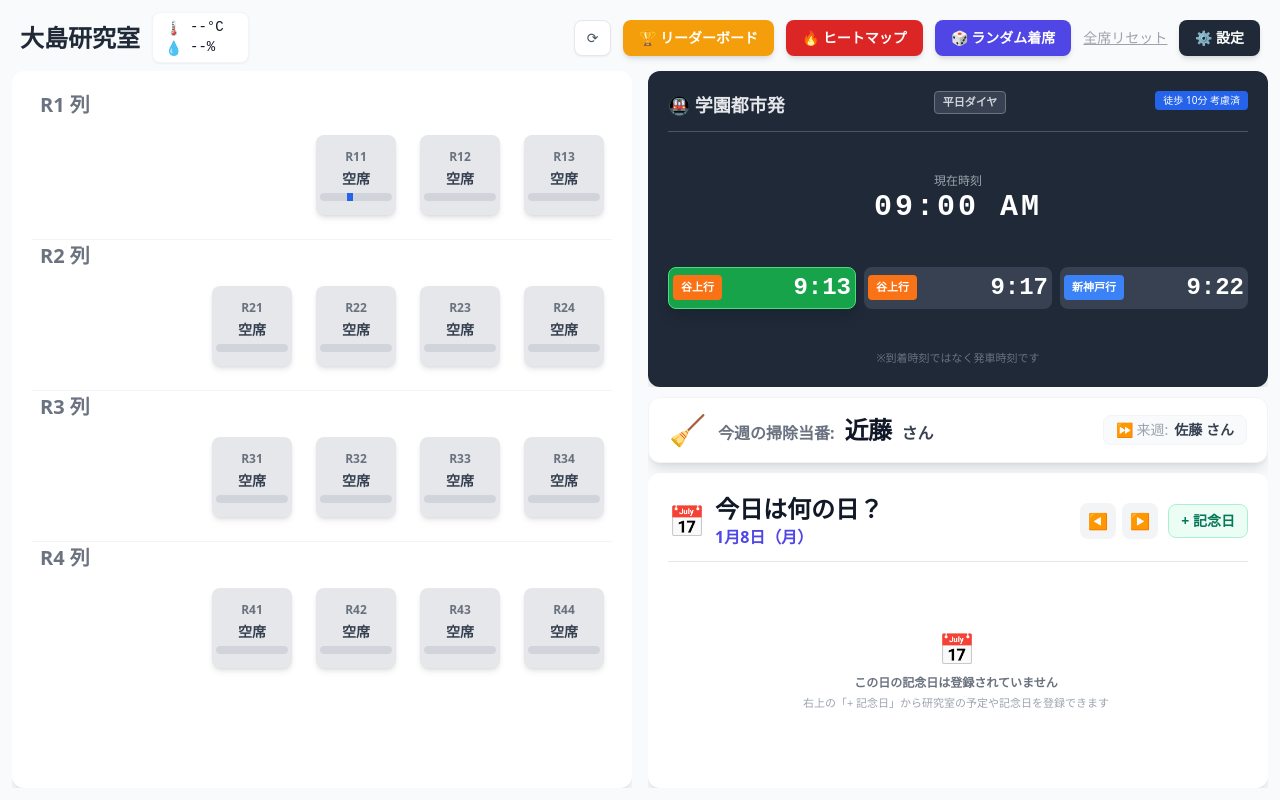
Test case: admin history management › removes a session via admin and clears leaderboard total
Click the button "🏆 リーダーボード" at [699, 38], box [623,20,774,56]
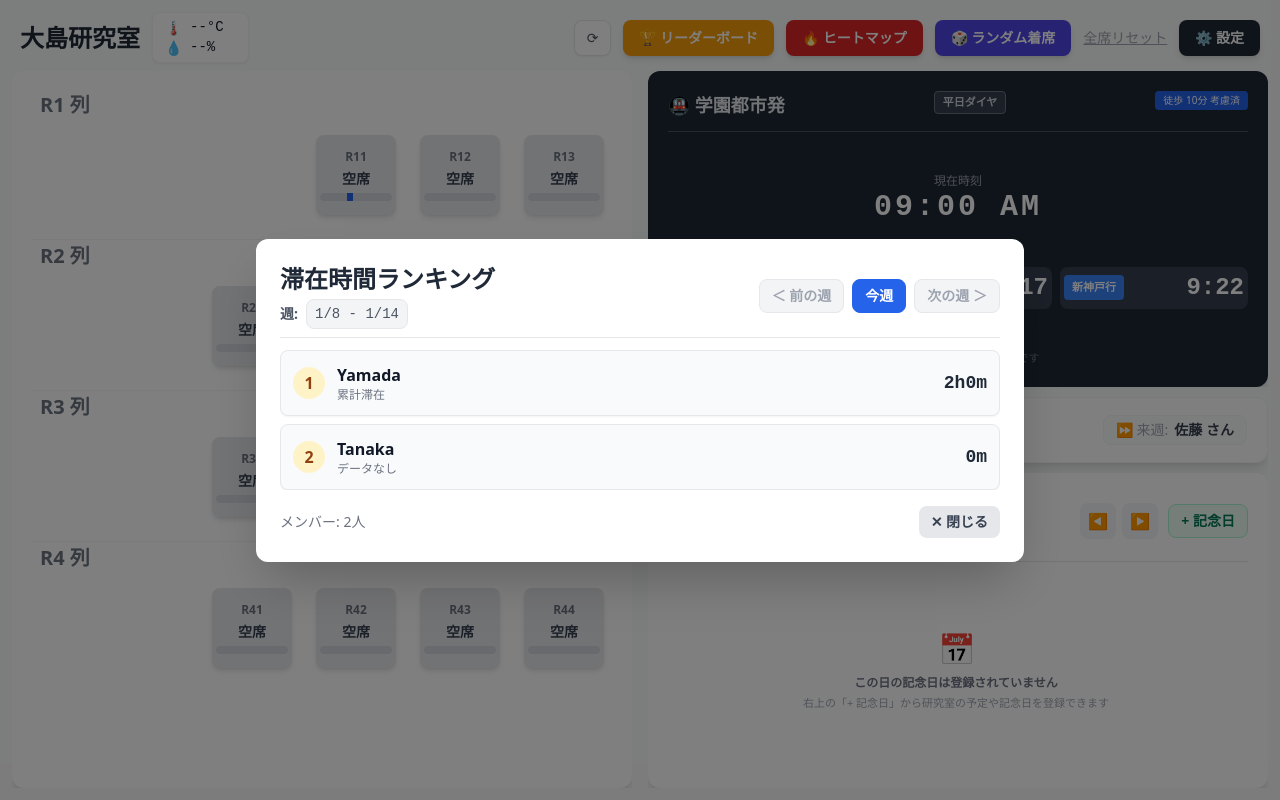
Now the list item "1 Yamada 累計滞在 2h0m" is shown, box [280,350,1000,416]
Click the button "✕ 閉じる" at [959, 522], box [919,506,1000,538]
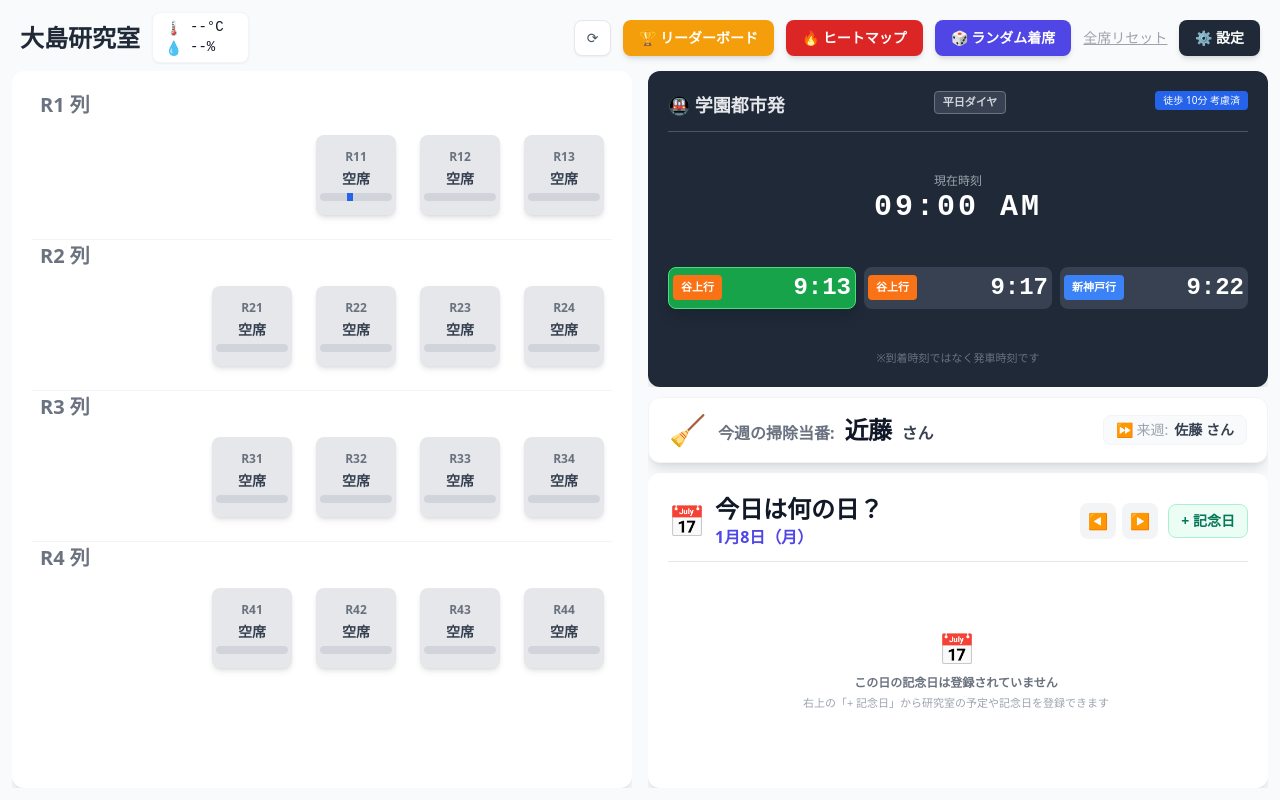
Click the button "⚙ 設定" at [1220, 38], box [1179,20,1260,56]
(page scrolled)
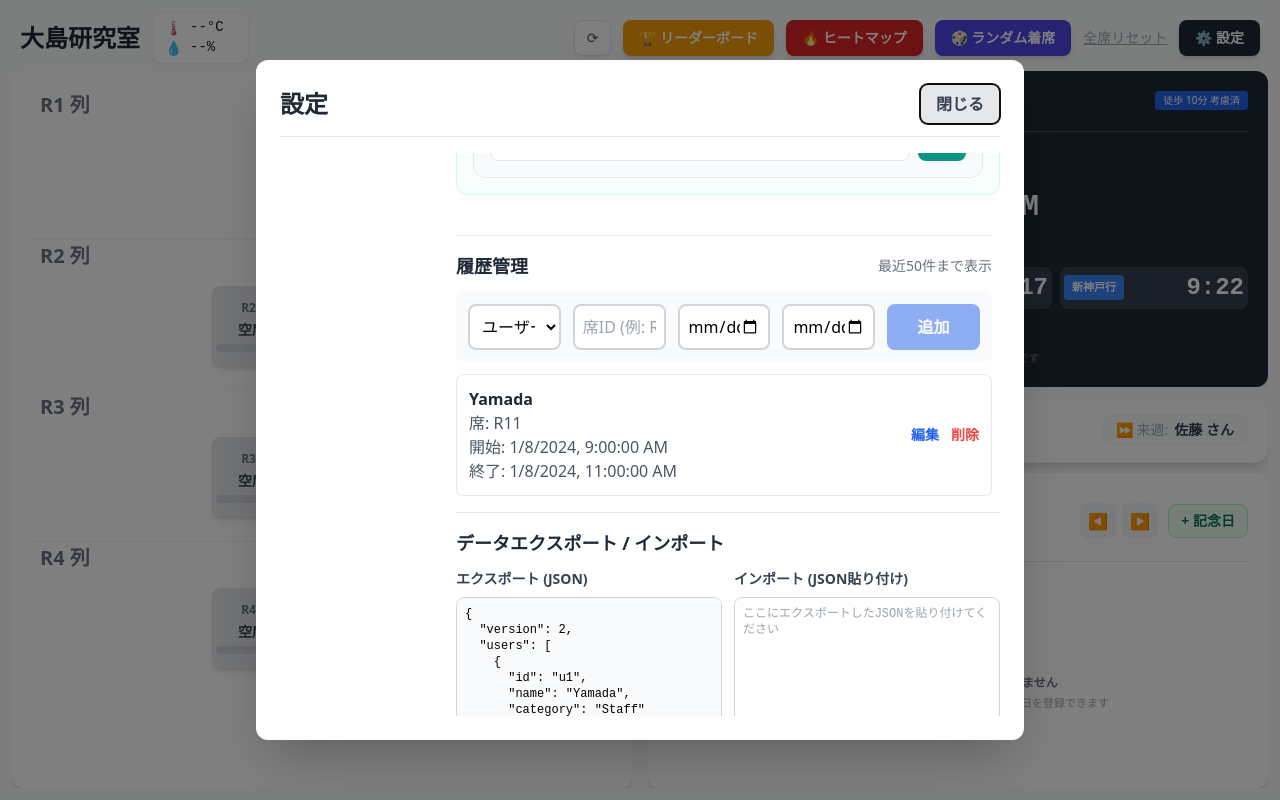
Click the button "削除" at [965, 434], box [951,424,979,444]
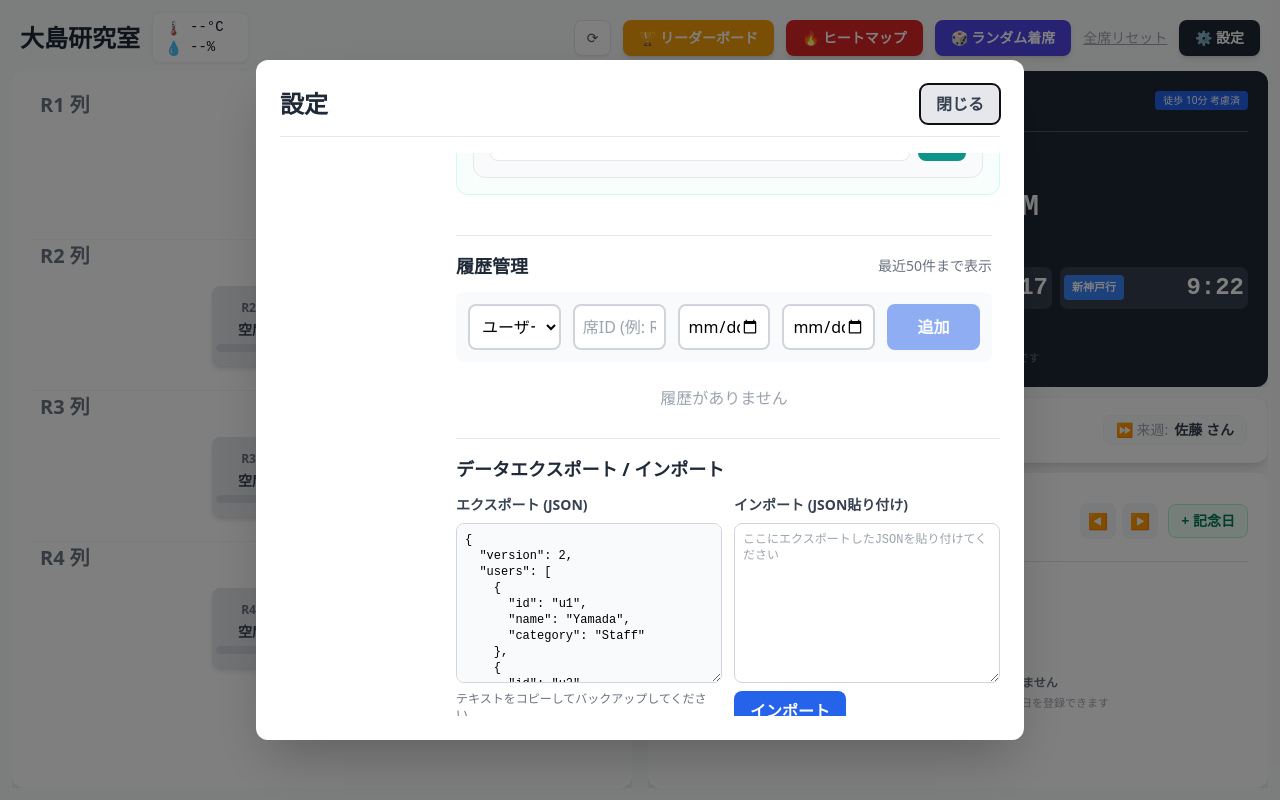
Click the button "閉じる" at [960, 104], box [920,84,1000,124]
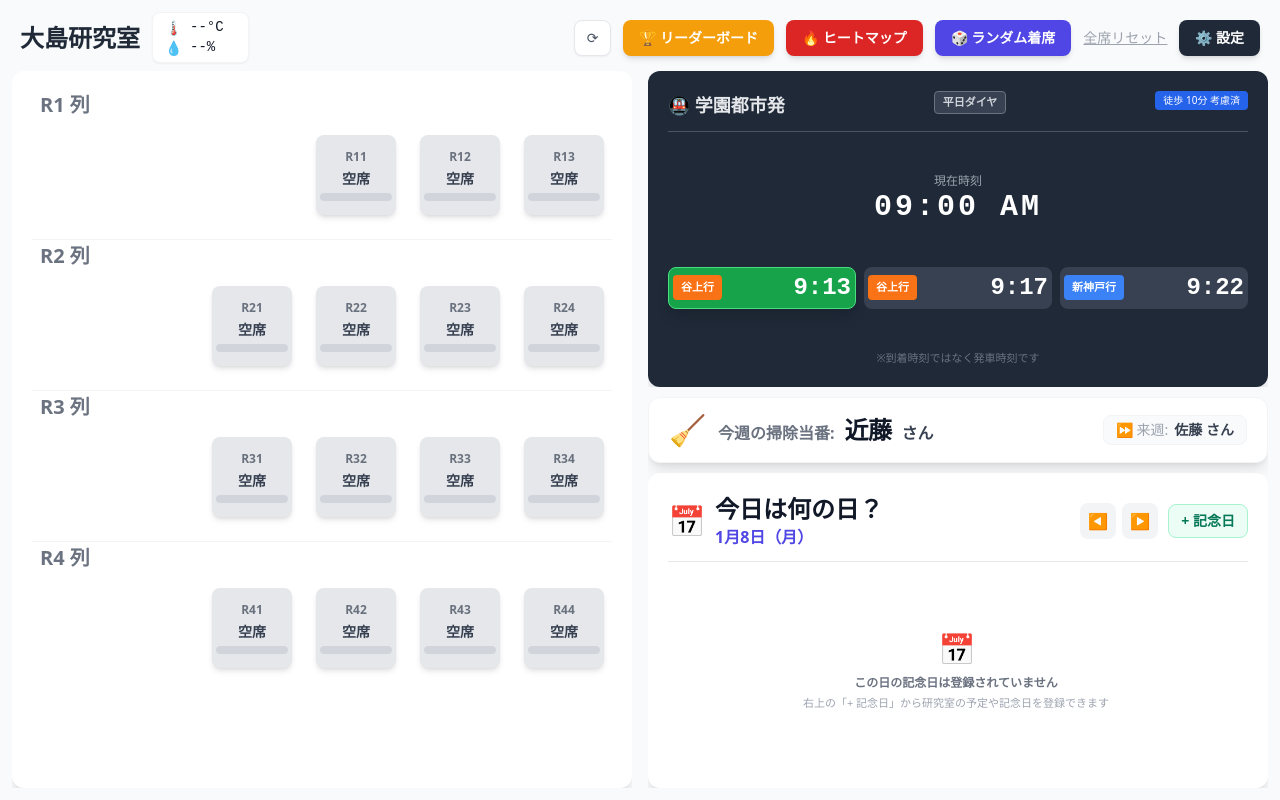
Click the button "🏆 リーダーボード" at [699, 38], box [623,20,774,56]
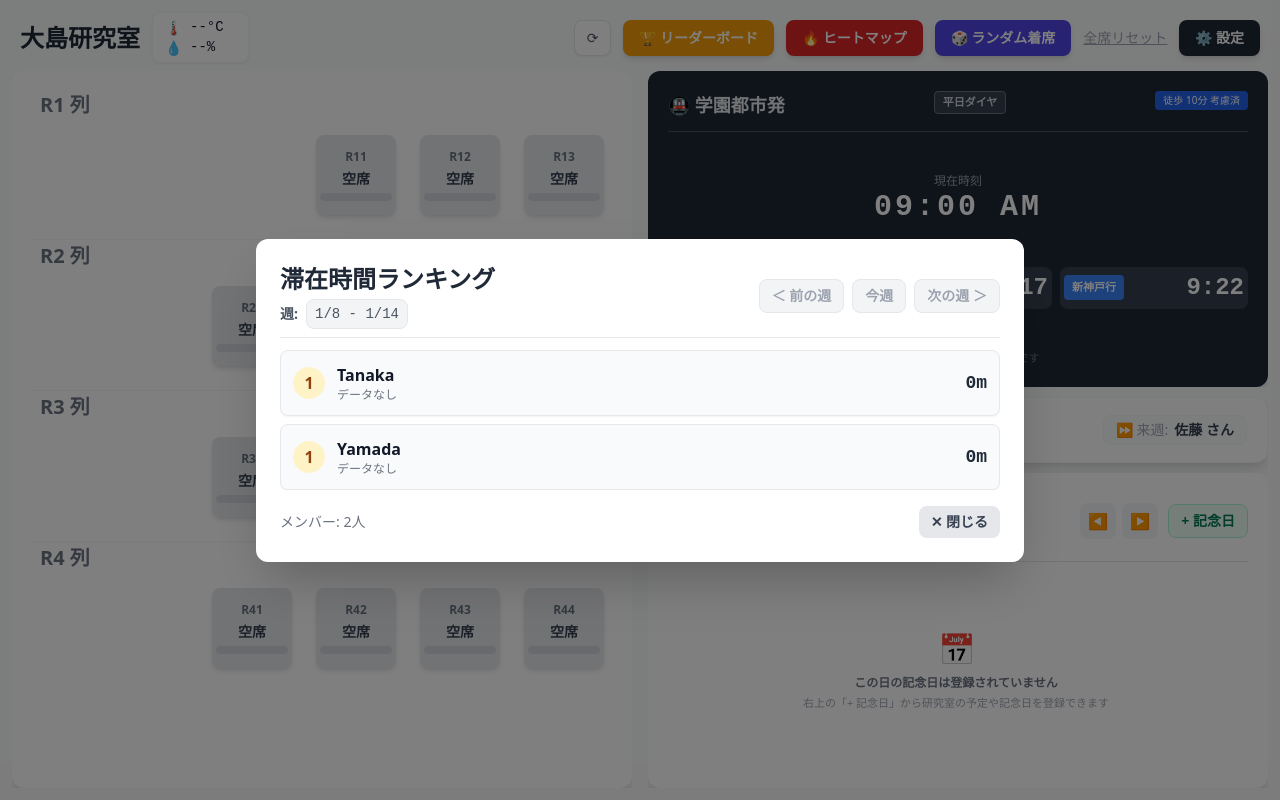
Now the list item "1 Tanaka データなし 0m" is shown, box [280,350,1000,416]
